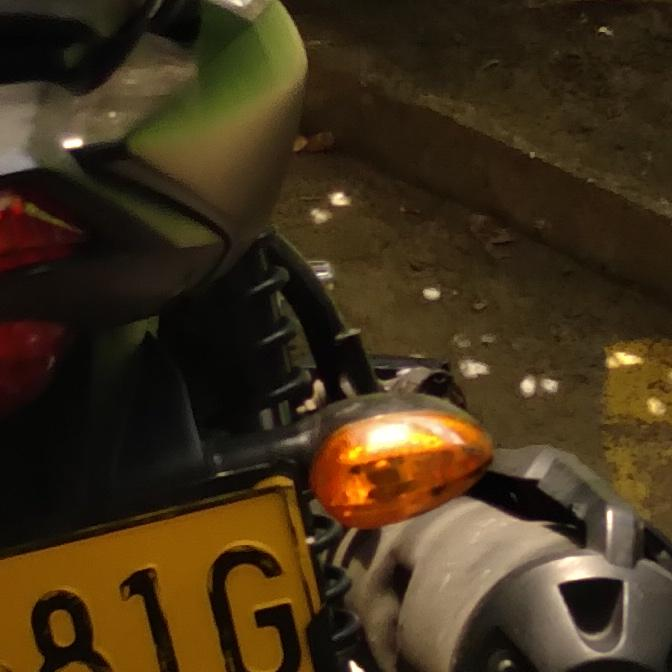plates: (0, 471, 341, 672)
